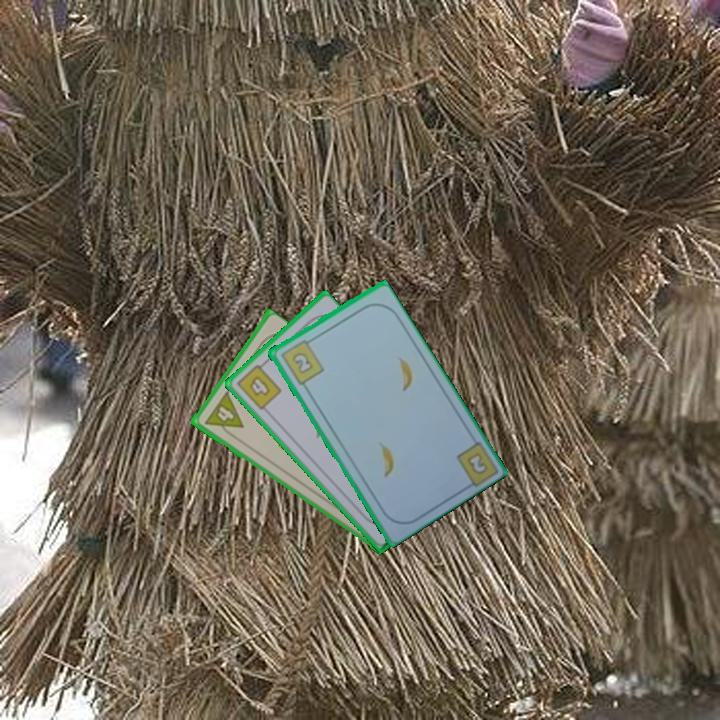2b: (277, 335, 326, 387), (463, 449, 490, 478)
4b: (233, 358, 285, 413)
4p: (200, 389, 246, 441)
